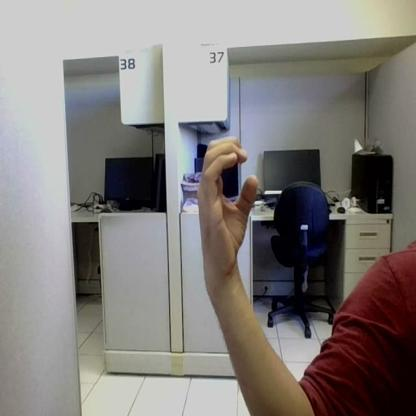C: (198, 137, 257, 275)
